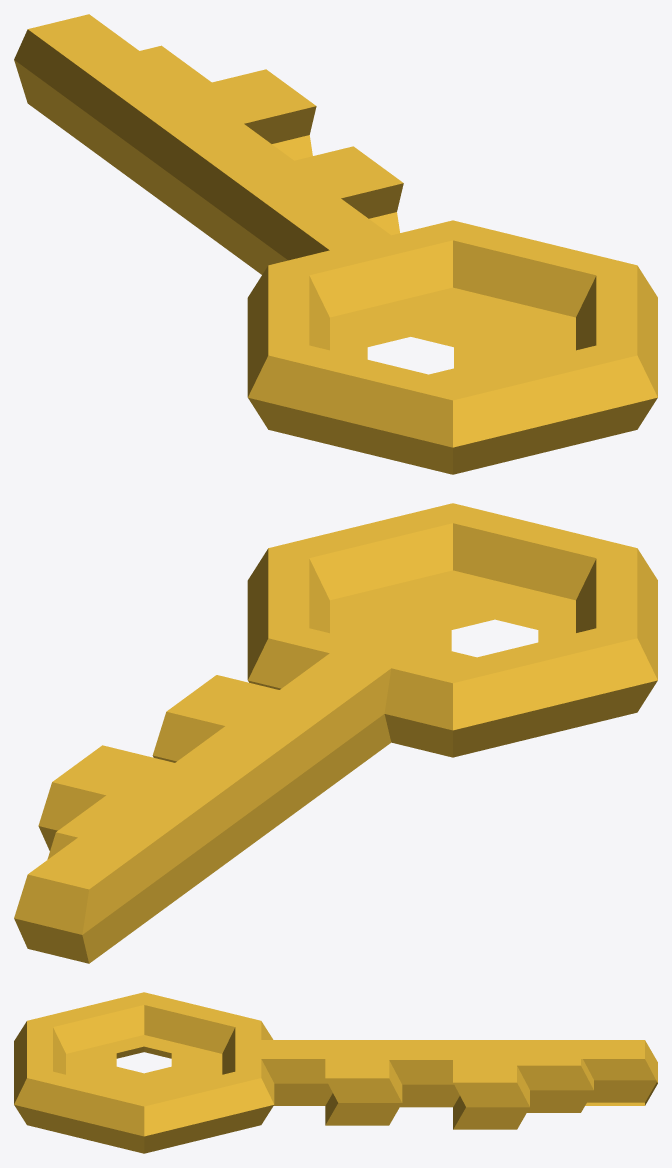
File: key.fbx
3 views of the same model, one above another, from view 1: azimuth 30°, elevation 25°; view 2: azimuth 150°, elevation 25°; view 3: azimuth 270°, elevation 25° (orthographic). The views are drawn at different scales.
Parts seen in each view (by area): view 1: Torus; view 2: Torus; view 3: Torus.
Boxes of the visible parts, x1,y1,x2,y2 form: Torus: (14, 14, 657, 474); Torus: (14, 503, 657, 963); Torus: (14, 992, 657, 1153).
Bounding box in the file's own units: 2.87 × 0.4979 × 6.16.
